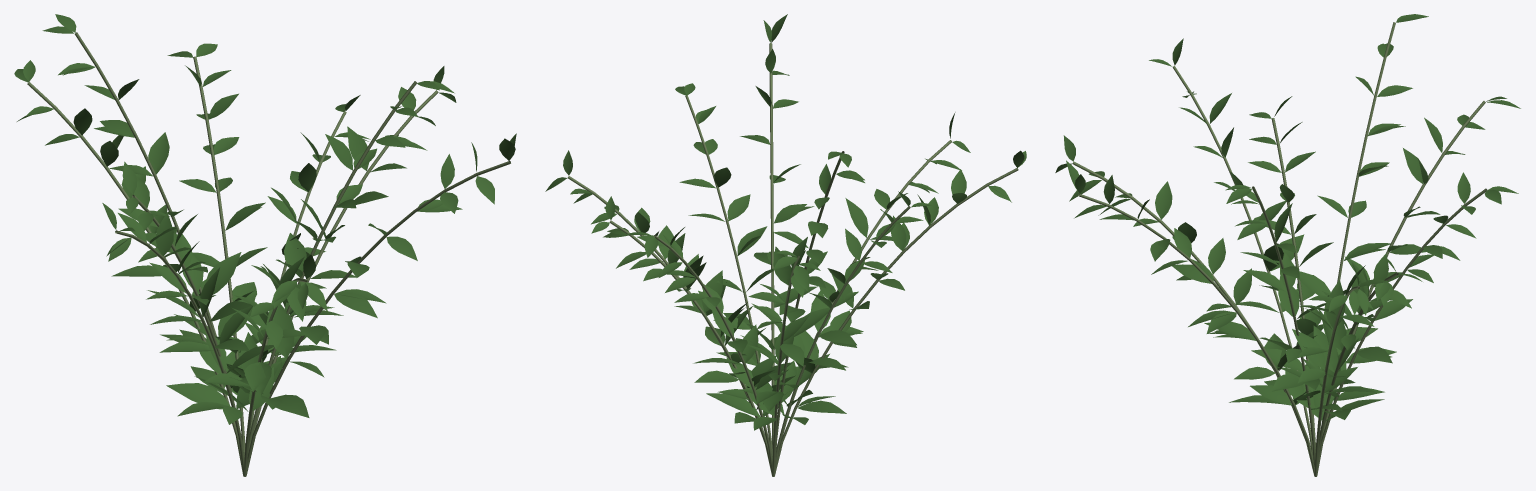
The model's file is ruscus-1.glb.
3 views of the same model, side by side, from view 1: azimuth 30°, elevation 25°; view 2: azimuth 150°, elevation 25°; view 3: azimuth 270°, elevation 25° (orthographic). The views are drawn at different scales.
Parts seen in each view (by area): view 1: ruscus-leaves, ruscus-stems; view 2: ruscus-leaves, ruscus-stems; view 3: ruscus-leaves, ruscus-stems.
Boxes of the visible parts, <box> form: ruscus-leaves: <box>14,14,516,424</box>; ruscus-stems: <box>27,32,510,476</box>; ruscus-leaves: <box>545,14,1026,430</box>; ruscus-stems: <box>567,43,1018,476</box>; ruscus-leaves: <box>1055,14,1520,421</box>; ruscus-stems: <box>1072,22,1487,476</box>.
Bounding box in the file's own units: 0.6174 × 0.5803 × 0.6068.
